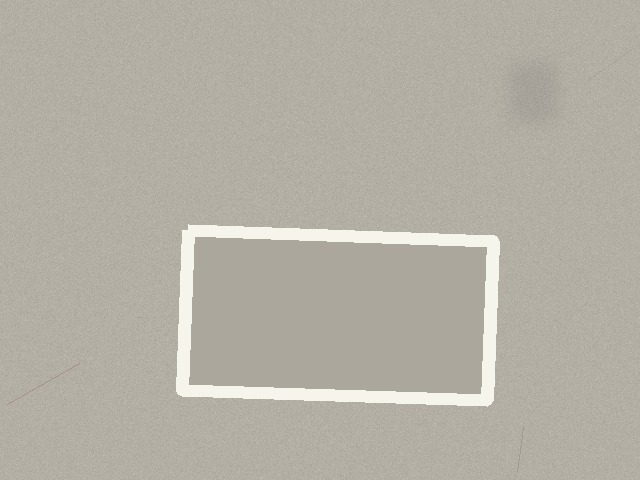parking_area: (182, 230, 493, 400)
